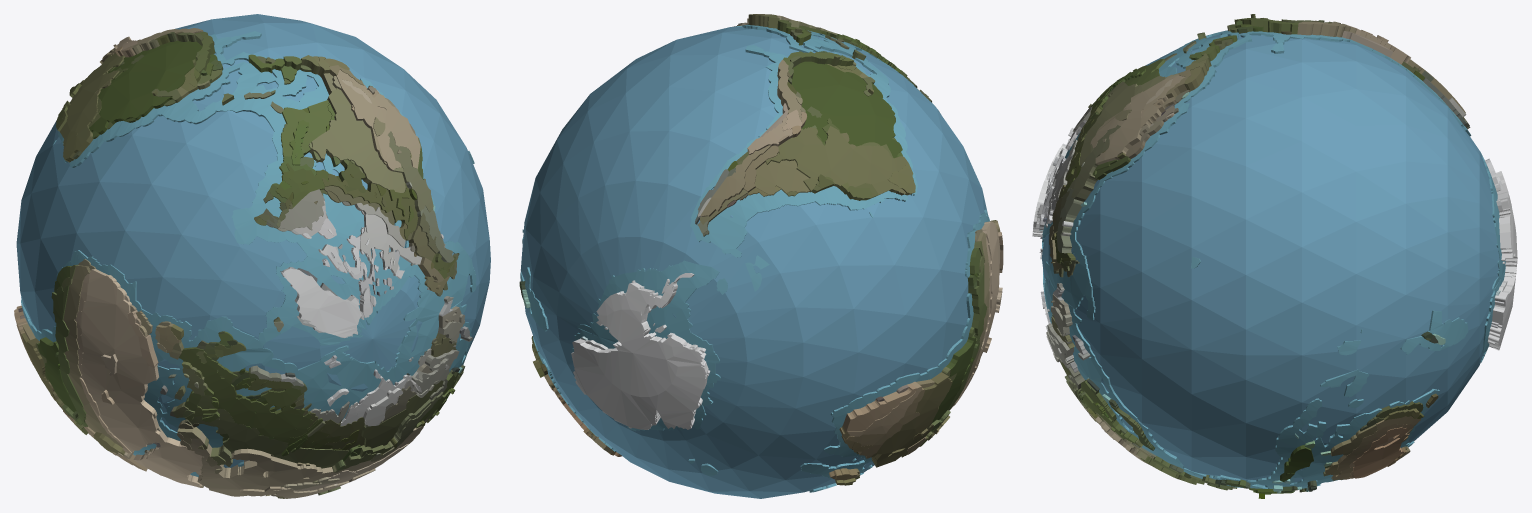
The model's file is globe.glb.
3 views of the same model, side by side, from view 1: azimuth 30°, elevation 25°; view 2: azimuth 150°, elevation 25°; view 3: azimuth 270°, elevation 25° (orthographic). The views are drawn at different scales.
Parts seen in each view (by area): view 1: __base_sphere__, water__shallow_ocean__shallow_ocean_r1, africa__sahara_central__dry_grassland_r1, water__shallow_ocean__shallow_ocean_r55, south_america__amazon_basin__forest_r6, europe__east_european_plain__light_forest_5_r0, asia__central_asian_steppe__steppe_r0, north_america__great_plains__grassland_r1, north_america__greenland__ice_r0, north_america__rocky_mountains_plateau__steppe_r1, asia__kazakh_steppe__grassland_r0, south_america__atlantic_forest__light_forest_r30 (+21 smaller); view 2: __base_sphere__, antarctica__east_antarctica__ice_r25, water__shallow_ocean__shallow_ocean_r1, south_america__amazon_basin__forest_r6, south_america__atlantic_forest__light_forest_r30, water__shallow_ocean__shallow_ocean_r31, antarctica__west_antarctica__ice_r12, water__shallow_ocean__shallow_ocean_r21, africa__africa_interior__light_forest_r29, south_america__pampas__grassland_r12, africa__kalahari__dry_grassland_r9, water__shallow_ocean__shallow_ocean_r56 (+10 smaller); view 3: __base_sphere__, water__shallow_ocean__shallow_ocean_r8, water__shallow_ocean__shallow_ocean_r1, north_america__rocky_mountains_plateau__steppe_r1, oceania__central_australian_desert__steppe_r4, north_america__great_plains__grassland_r1, antarctica__west_antarctica__ice_r12, antarctica__east_antarctica__ice_r25, north_america__boreal_forest_na__barren_r7, water__shallow_ocean__shallow_ocean_r28, oceania__great_dividing_range__grassland_r11, north_america__boreal_forest_na__alpine_meadow_5_r7 (+7 smaller).
Boxes of the visible parts, x1=… form: __base_sphere__: x1=16, y1=14, x2=490, y2=467; water__shallow_ocean__shallow_ocean_r1: x1=56, y1=31, x2=476, y2=352; africa__sahara_central__dry_grassland_r1: x1=80, y1=269, x2=202, y2=487; water__shallow_ocean__shallow_ocean_r55: x1=216, y1=315, x2=438, y2=420; south_america__amazon_basin__forest_r6: x1=89, y1=40, x2=202, y2=134; europe__east_european_plain__light_forest_5_r0: x1=179, y1=347, x2=318, y2=442; asia__central_asian_steppe__steppe_r0: x1=190, y1=426, x2=423, y2=496; north_america__great_plains__grassland_r1: x1=309, y1=88, x2=405, y2=192; north_america__greenland__ice_r0: x1=282, y1=267, x2=361, y2=337; north_america__rocky_mountains_plateau__steppe_r1: x1=336, y1=69, x2=420, y2=171; asia__kazakh_steppe__grassland_r0: x1=193, y1=408, x2=348, y2=468; south_america__atlantic_forest__light_forest_r30: x1=60, y1=53, x2=124, y2=146; __base_sphere__: x1=520, y1=26, x2=986, y2=498; antarctica__east_antarctica__ice_r25: x1=571, y1=338, x2=708, y2=429; water__shallow_ocean__shallow_ocean_r1: x1=690, y1=25, x2=989, y2=277; south_america__amazon_basin__forest_r6: x1=791, y1=61, x2=902, y2=158; south_america__atlantic_forest__light_forest_r30: x1=765, y1=126, x2=908, y2=196; water__shallow_ocean__shallow_ocean_r31: x1=577, y1=260, x2=719, y2=360; antarctica__west_antarctica__ice_r12: x1=596, y1=281, x2=706, y2=364; water__shallow_ocean__shallow_ocean_r21: x1=800, y1=293, x2=973, y2=478; africa__africa_interior__light_forest_r29: x1=871, y1=372, x2=952, y2=467; south_america__pampas__grassland_r12: x1=754, y1=160, x2=809, y2=195; africa__kalahari__dry_grassland_r9: x1=843, y1=383, x2=916, y2=431; water__shallow_ocean__shallow_ocean_r56: x1=572, y1=328, x2=720, y2=431; __base_sphere__: x1=1041, y1=33, x2=1499, y2=485; water__shallow_ocean__shallow_ocean_r8: x1=1064, y1=300, x2=1414, y2=488; water__shallow_ocean__shallow_ocean_r1: x1=1042, y1=30, x2=1471, y2=319; north_america__rocky_mountains_plateau__steppe_r1: x1=1090, y1=75, x2=1185, y2=164; oceania__central_australian_desert__steppe_r4: x1=1353, y1=427, x2=1408, y2=478; north_america__great_plains__grassland_r1: x1=1079, y1=76, x2=1165, y2=165; antarctica__west_antarctica__ice_r12: x1=1491, y1=171, x2=1517, y2=265; antarctica__east_antarctica__ice_r25: x1=1488, y1=262, x2=1517, y2=350; north_america__boreal_forest_na__barren_r7: x1=1069, y1=125, x2=1120, y2=201; water__shallow_ocean__shallow_ocean_r28: x1=1400, y1=317, x2=1468, y2=354; oceania__great_dividing_range__grassland_r11: x1=1333, y1=416, x2=1420, y2=479; north_america__boreal_forest_na__alpine_meadow_5_r7: x1=1057, y1=189, x2=1083, y2=253.
Size of the model in its own units: 101 by 101 by 104.
